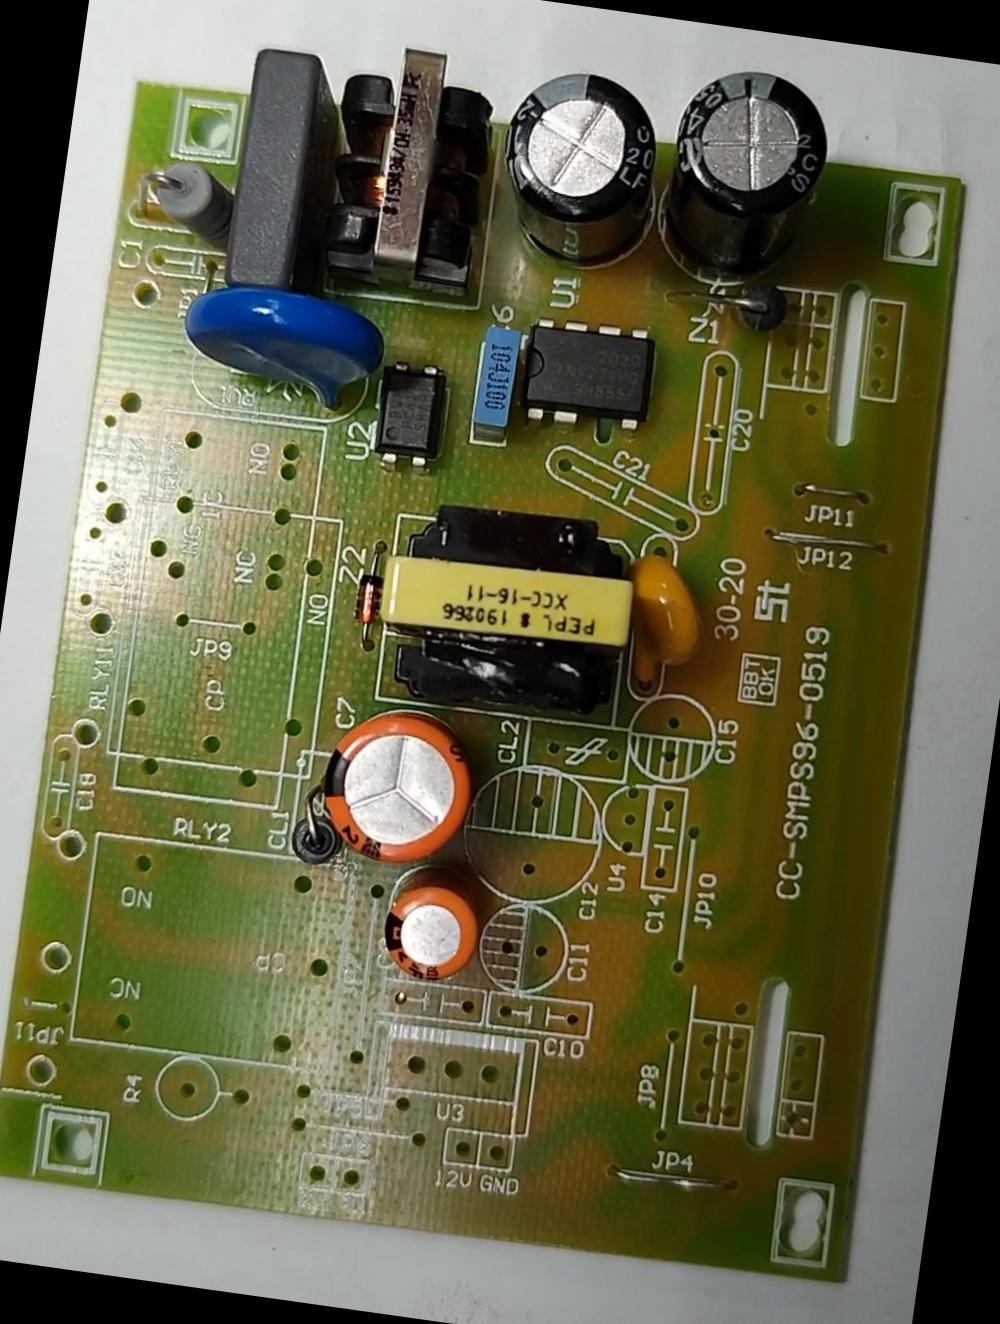Cap1: (304, 684, 494, 877)
Cap2: (369, 858, 498, 996)
Cap3: (480, 51, 675, 285)
Cap4: (650, 45, 838, 302)
MOSFET: (514, 307, 666, 441)
Mov: (162, 261, 395, 425)
Resistor: (123, 143, 248, 262)
Transformer: (311, 33, 507, 307)
